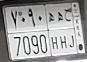0: (38, 14, 49, 54), (21, 16, 31, 57)
7: (10, 9, 22, 58)
H: (48, 11, 58, 50)
